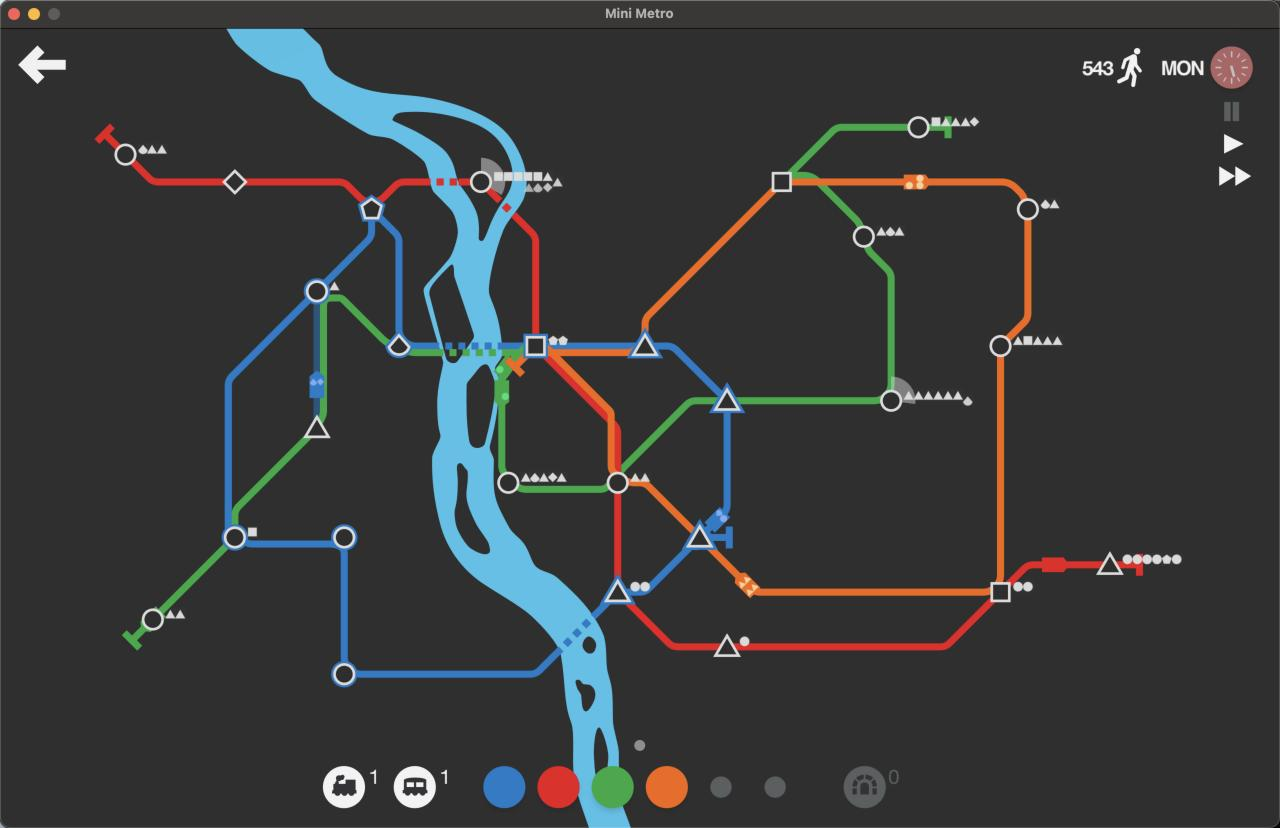CIRCLE: (331, 524, 357, 550), (331, 661, 356, 687), (304, 278, 329, 304), (222, 525, 247, 550), (606, 471, 630, 495), (141, 607, 164, 632), (907, 115, 930, 139), (852, 225, 875, 249), (989, 334, 1012, 358), (880, 388, 903, 412), (114, 143, 137, 166), (470, 170, 493, 193), (497, 471, 520, 494), (1017, 198, 1040, 220)
GEM: (223, 169, 247, 195)
PENTAGON: (359, 195, 384, 221)
SQUARE: (524, 333, 548, 358), (771, 171, 793, 193), (990, 581, 1011, 603)
TRIANGLE: (710, 382, 744, 414), (628, 329, 661, 359), (685, 520, 717, 550), (603, 576, 633, 604), (713, 632, 742, 658), (304, 413, 331, 439), (1096, 551, 1123, 576)
WEDGE: (386, 332, 411, 358)
